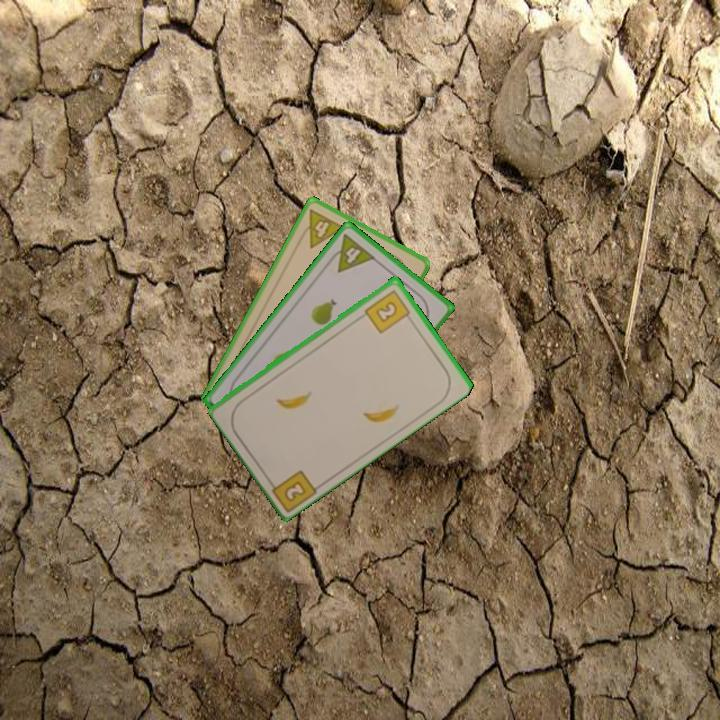2b: (361, 286, 415, 336), (264, 466, 321, 513)
4p: (323, 230, 378, 275), (295, 205, 347, 251)
